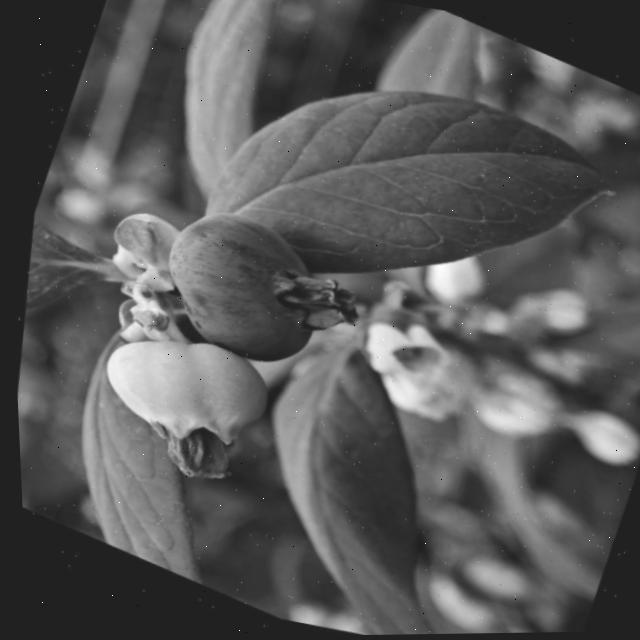RipeBlueBerry: (124, 180, 357, 394)
UnripeBlueBerry: (67, 302, 288, 482)
